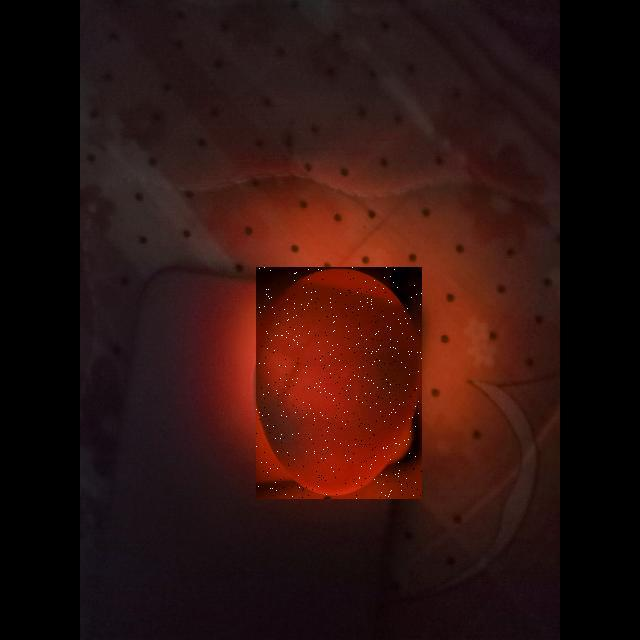Fertile: (256, 267, 422, 499)
